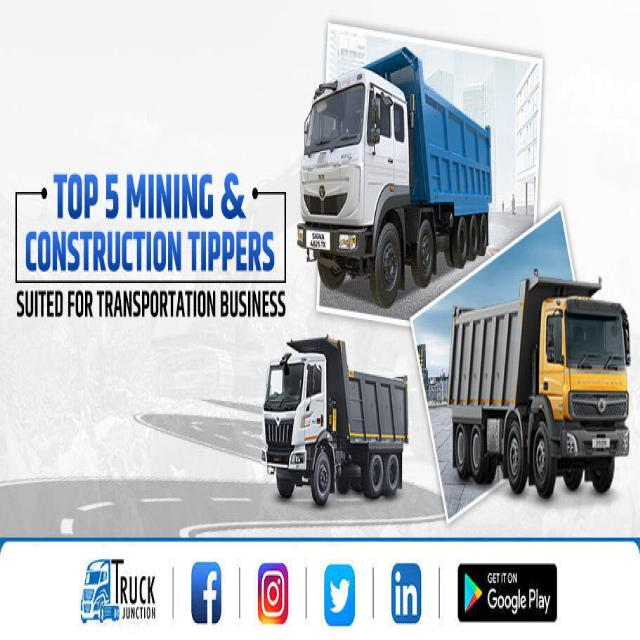dump_truck: (287, 36, 494, 309), (456, 282, 640, 512), (247, 321, 415, 531)
